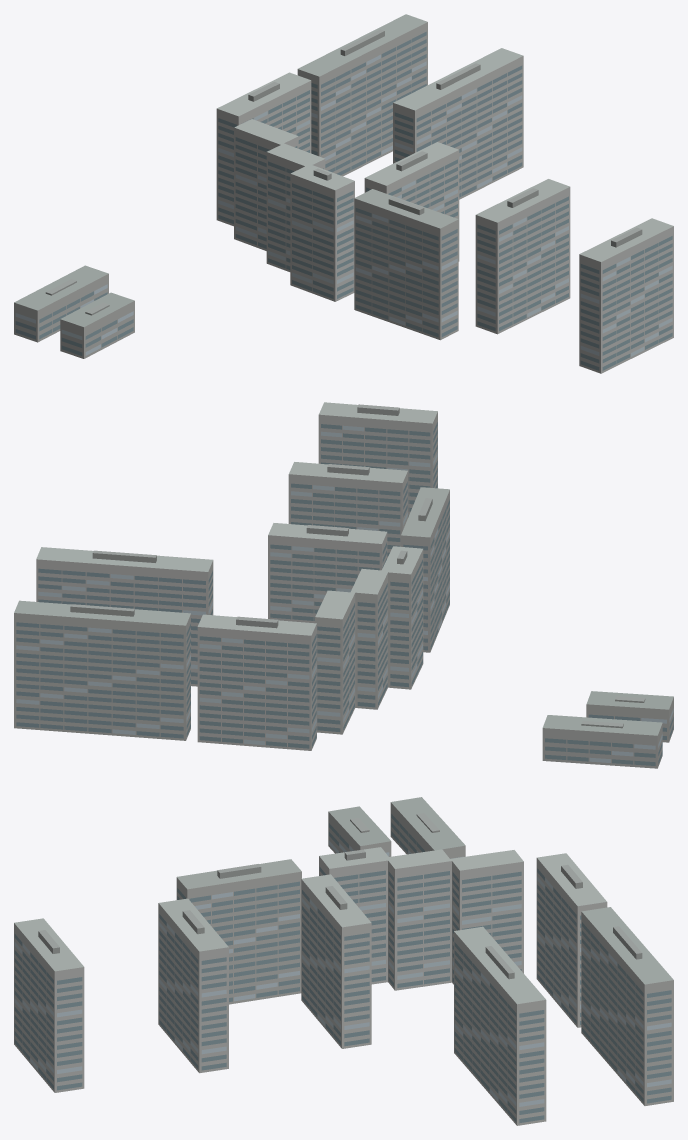
File: apt-a13987205.glb
3 renders of one model, top to bottom at view 1: azimuth 30°, elevation 25°; view 2: azimuth 150°, elevation 25°; view 3: azimuth 270°, elevation 25°, orthographic. The views are drawn at different scales.
Parts seen in each view (by area): view 1: apt-a13987205; view 2: apt-a13987205; view 3: apt-a13987205.
Boxes of the visible parts, x1,y1,x2,y2 form: apt-a13987205: [14, 14, 673, 373]; apt-a13987205: [14, 402, 673, 768]; apt-a13987205: [14, 797, 673, 1125].
Bounding box in the file's own units: 243 × 49 × 230.
